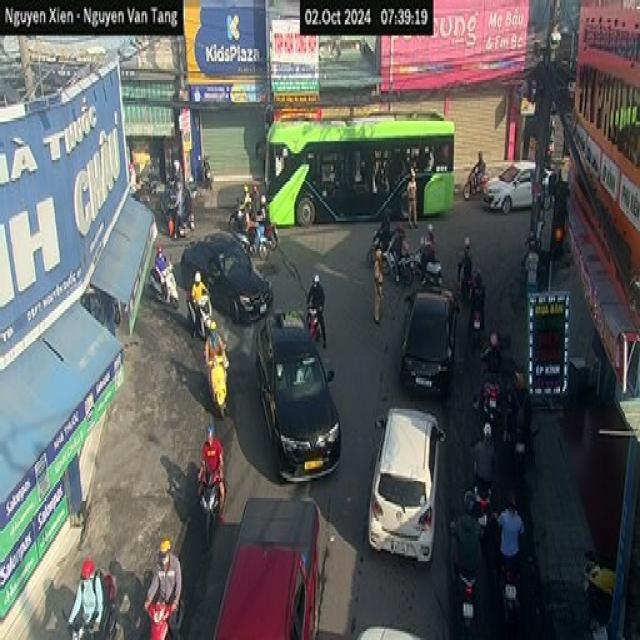bus: (263, 109, 455, 227)
car: (255, 309, 341, 482), (366, 404, 446, 562), (180, 229, 272, 322), (399, 284, 459, 398)
motorcycle: (195, 469, 225, 551), (204, 338, 228, 418), (149, 260, 179, 309), (462, 164, 488, 200)
person: (142, 538, 182, 638), (66, 556, 102, 638), (196, 422, 225, 516), (305, 273, 326, 347), (188, 269, 208, 338), (372, 247, 383, 322), (406, 167, 419, 229), (470, 149, 485, 191)
